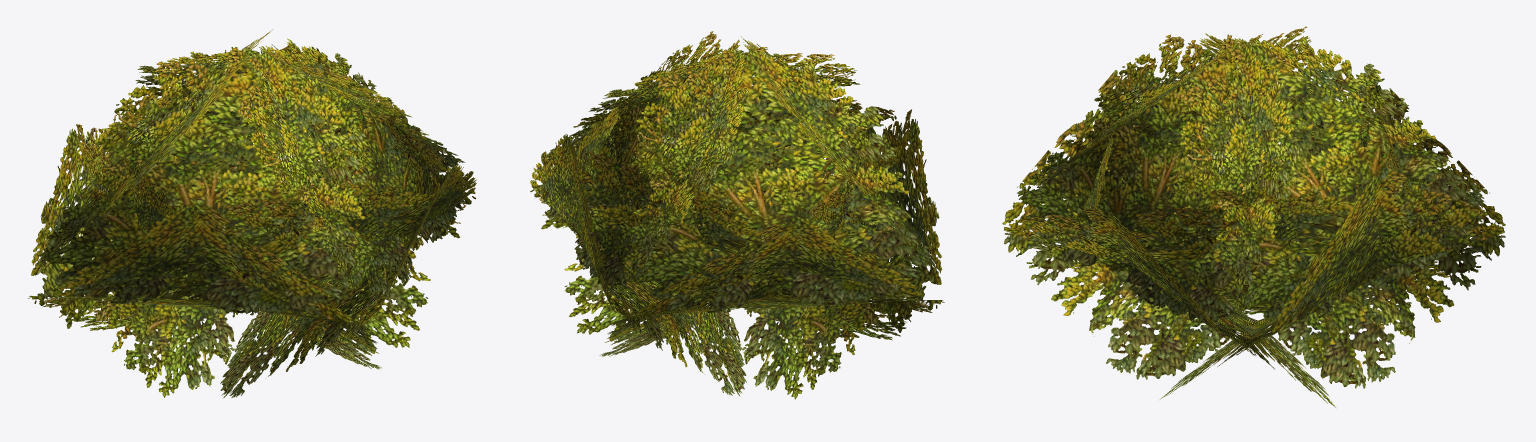
The model's file is treefacade01.obj.
3 views of the same model, side by side, from view 1: azimuth 30°, elevation 25°; view 2: azimuth 150°, elevation 25°; view 3: azimuth 270°, elevation 25° (orthographic). The views are drawn at different scales.
Parts seen in each view (by area): view 1: treefacade01; view 2: treefacade01; view 3: treefacade01.
Part boxes in pixels (x1,y1,x2,y2): treefacade01: (28,29,476,397); treefacade01: (530,31,944,399); treefacade01: (1002,26,1505,407).
Size of the model in its own units: 65.31 by 43.35 by 63.21.
Materials: 1 (1 with a texture image).
